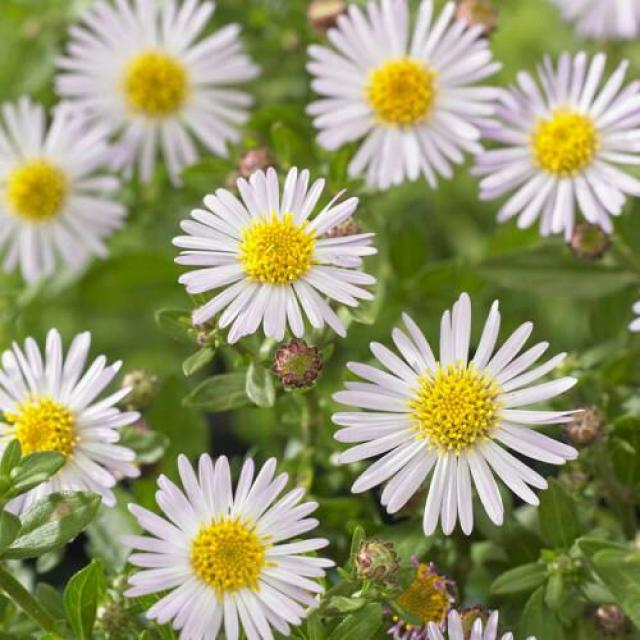organic waste: (339, 294, 585, 532), (105, 450, 326, 638), (298, 6, 503, 192), (175, 159, 383, 339), (57, 2, 266, 180), (446, 52, 636, 246), (3, 328, 148, 519), (0, 108, 134, 297)
